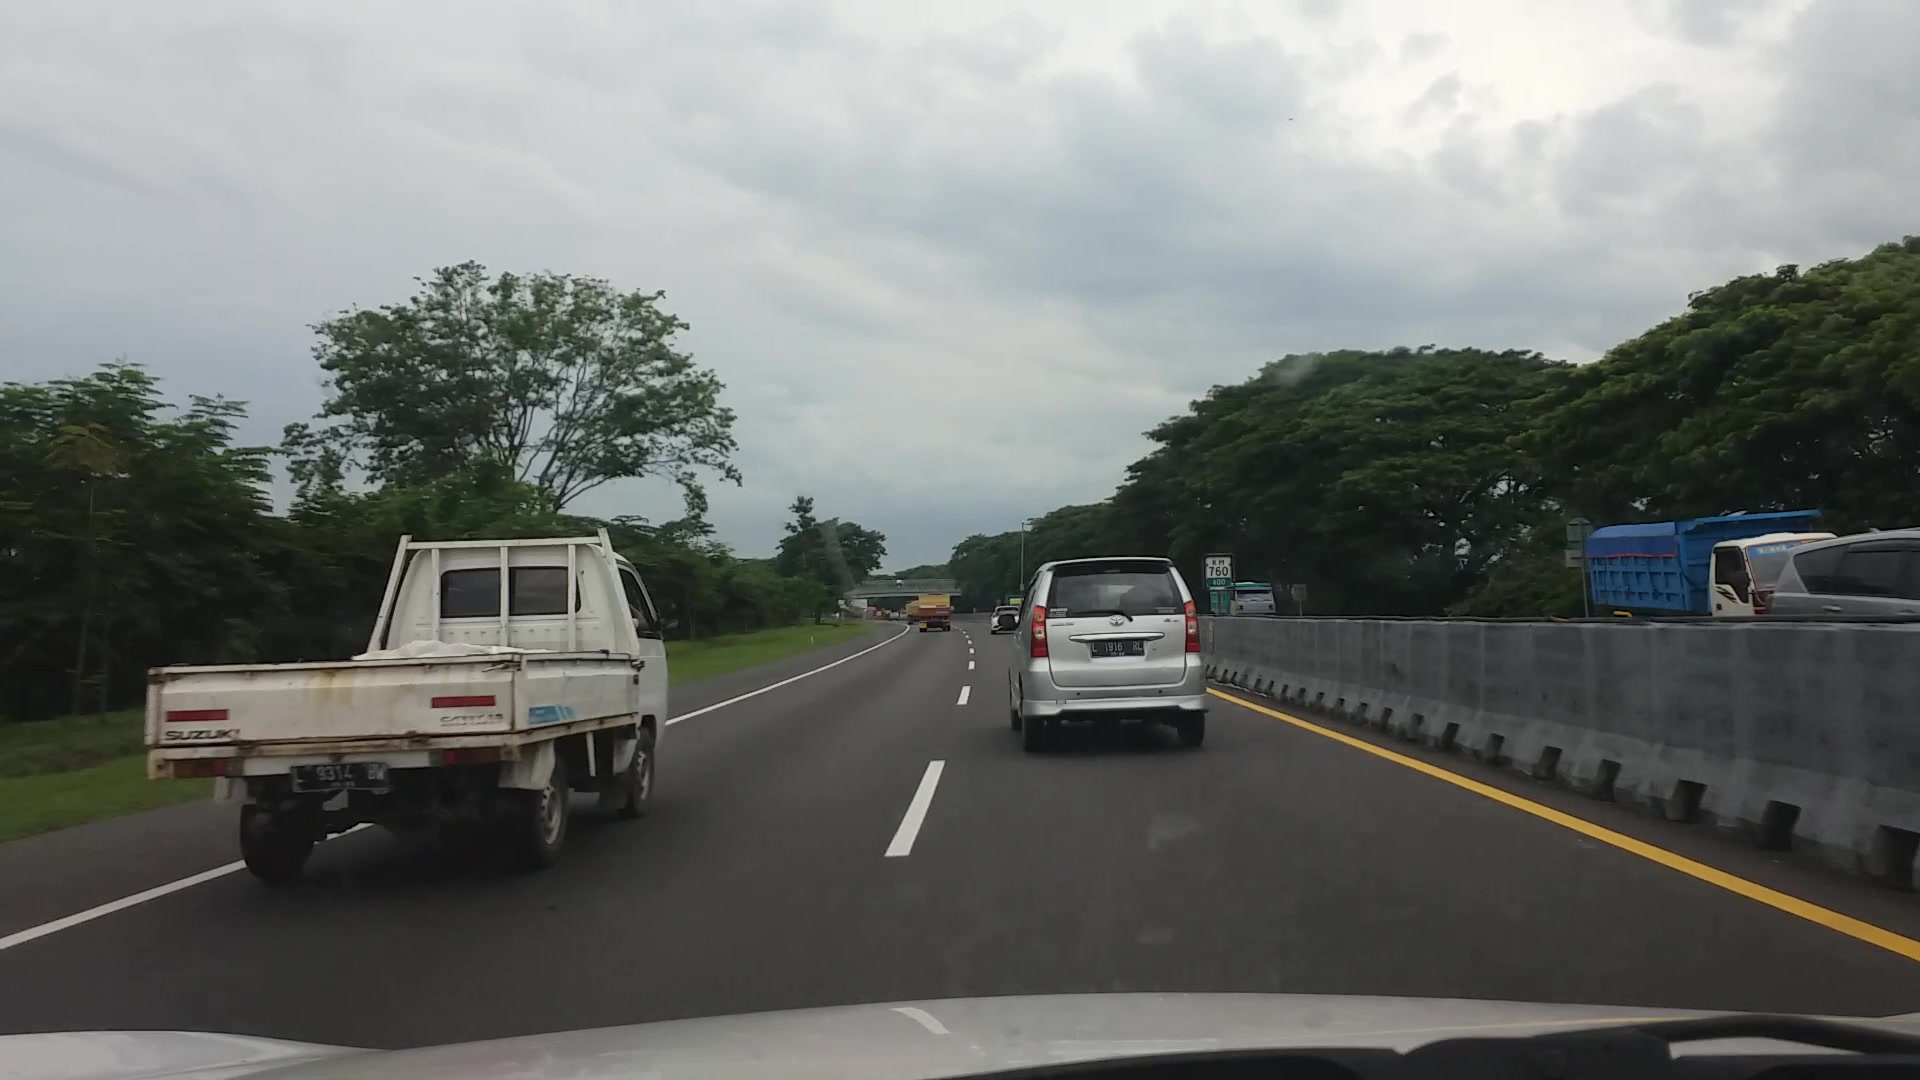plate_positive: (290, 764, 386, 791), (1091, 640, 1145, 658)
